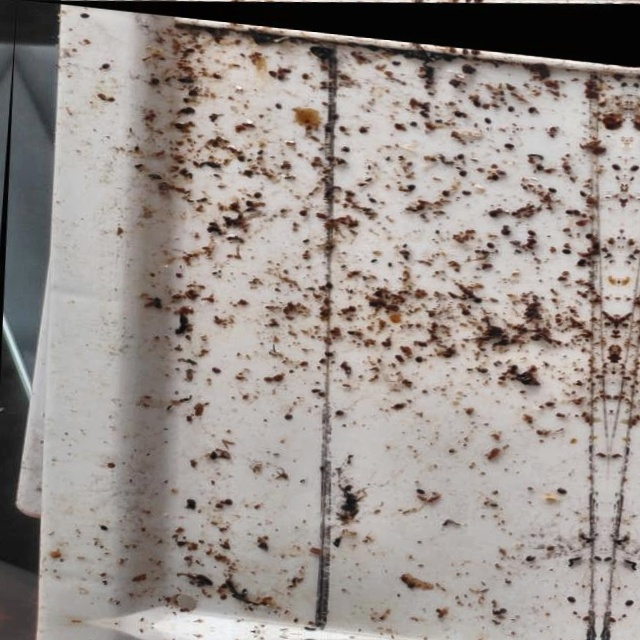varroa: (553, 481, 570, 490), (333, 405, 347, 415), (524, 548, 537, 558), (223, 495, 236, 505), (407, 178, 420, 188), (413, 482, 427, 491), (476, 361, 490, 370), (206, 448, 218, 458), (391, 398, 406, 406), (272, 100, 285, 109), (150, 76, 163, 85), (99, 60, 110, 70), (323, 278, 335, 287), (471, 44, 483, 53), (461, 184, 474, 192), (503, 138, 516, 146), (472, 291, 483, 300), (282, 410, 294, 418), (273, 371, 285, 379), (509, 235, 521, 243), (488, 206, 500, 214), (252, 189, 264, 197), (358, 123, 370, 131), (96, 92, 108, 100), (173, 121, 185, 129), (566, 589, 576, 598), (591, 549, 602, 557), (415, 352, 426, 360), (210, 364, 221, 372), (393, 55, 404, 63), (453, 106, 464, 114), (483, 111, 494, 119), (366, 194, 377, 202), (489, 170, 500, 178), (612, 156, 623, 164), (187, 87, 199, 94), (341, 141, 350, 150), (487, 237, 497, 245), (442, 185, 452, 193), (324, 348, 335, 355), (457, 166, 468, 173), (587, 226, 596, 234), (592, 236, 601, 244), (457, 148, 466, 156), (537, 159, 546, 167), (565, 203, 575, 210), (527, 232, 538, 238), (579, 252, 587, 260), (562, 242, 571, 249), (245, 198, 254, 205), (268, 68, 277, 75), (472, 97, 481, 104), (529, 102, 538, 109), (549, 181, 558, 188), (579, 184, 588, 191), (574, 202, 581, 211), (527, 225, 537, 231), (302, 70, 310, 77), (450, 43, 458, 50), (262, 374, 273, 379), (277, 71, 286, 77), (339, 123, 347, 129), (282, 66, 291, 71), (462, 45, 469, 50), (508, 102, 515, 107)
